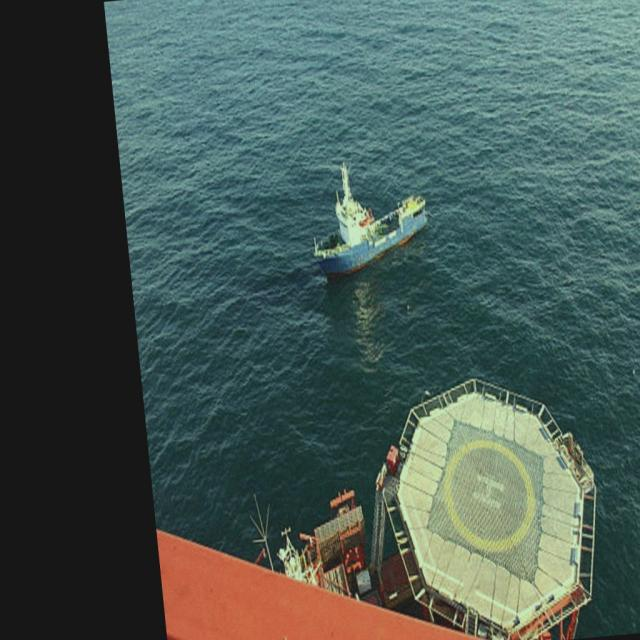helipad: (440, 435, 538, 557)
